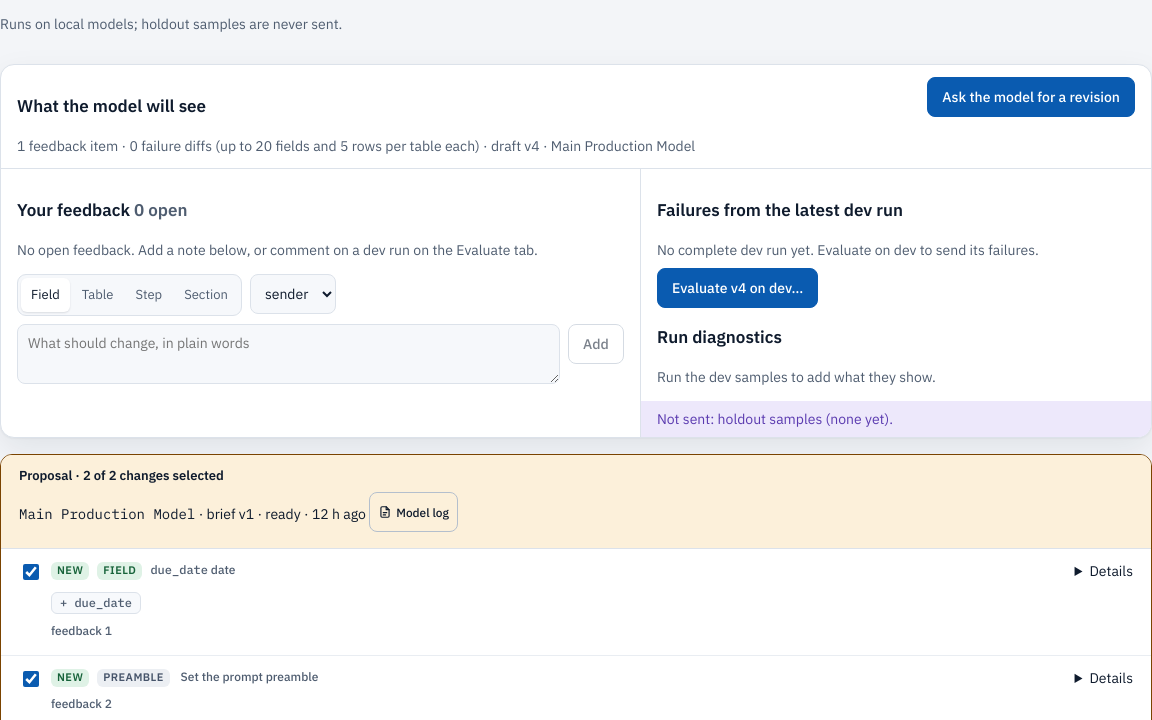
it: ReviseTab › evaluating the revision without leaving the tab › warns before applying changes that would outdate dev references
# Only the preamble ticked: no output changes, no warning.
Click the checkbox labelled "NEW FIELD due_date date + due_date feedback 1".
click(31, 572)  # box [23,564,39,580]
(page scrolled)
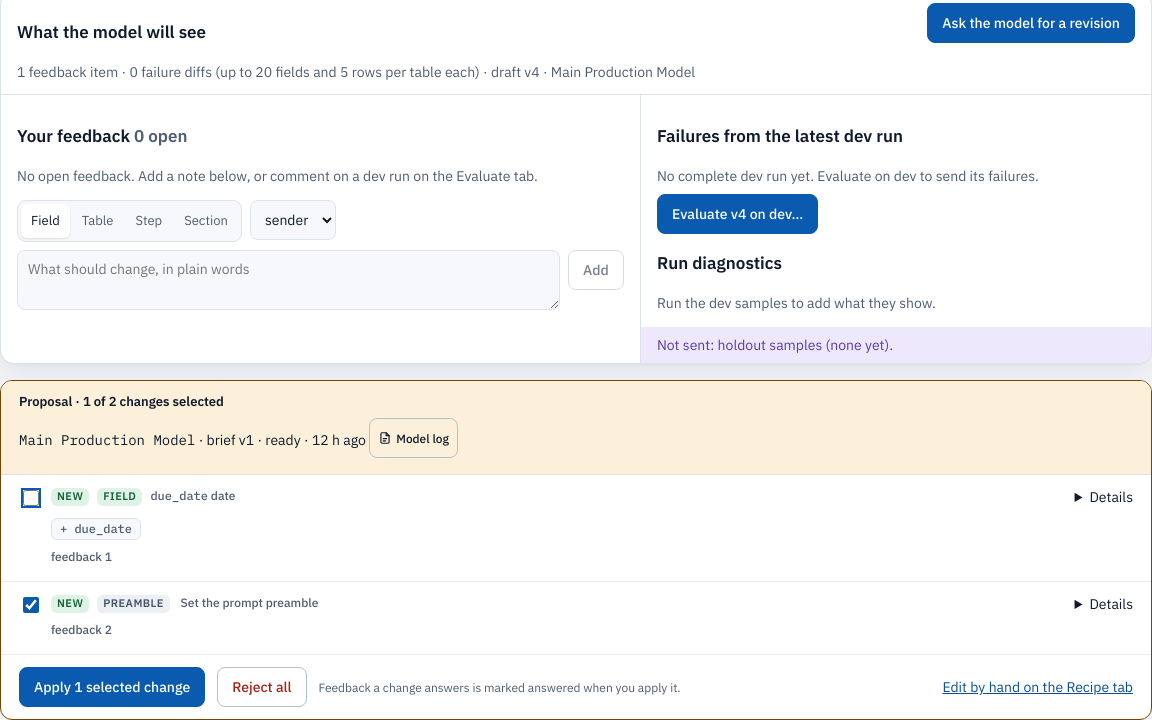
Check: the element "Proposal" no longer shows "Changes outputs", box [0,380,1151,719]
